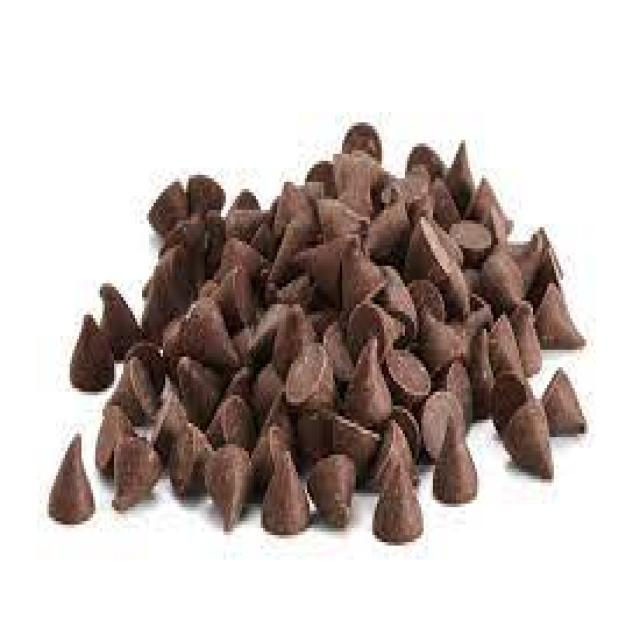Chocolate: (49, 119, 587, 545)
